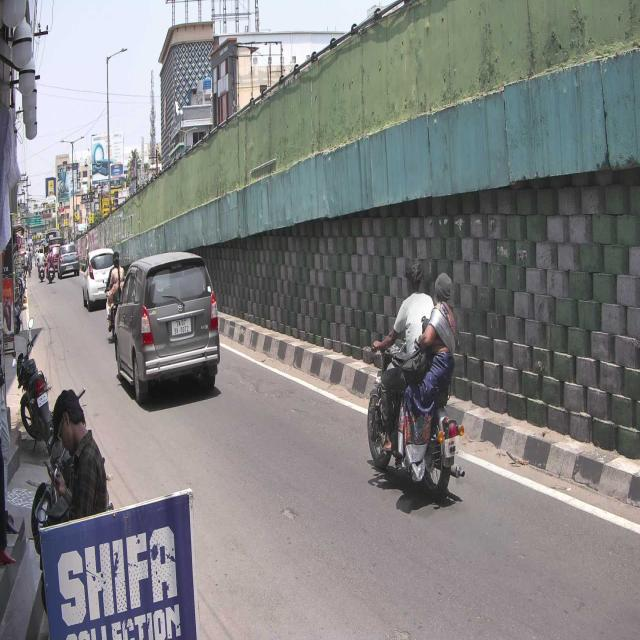double_rider: (367, 255, 468, 507)
